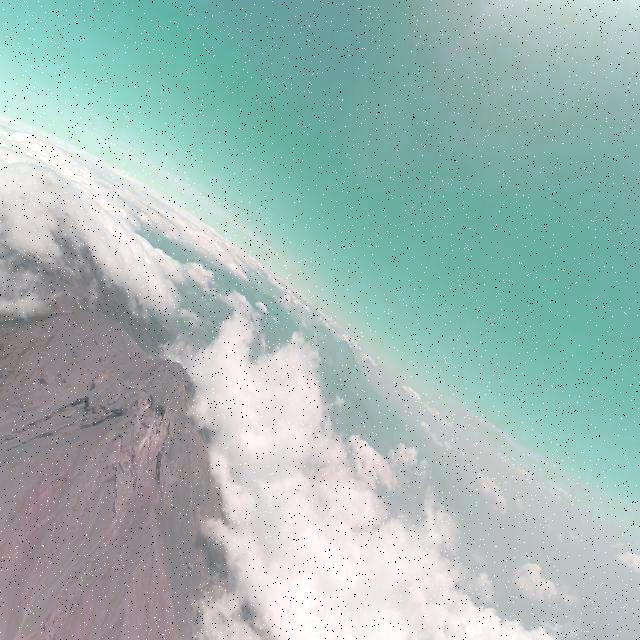Summit: (27, 294, 233, 592)
